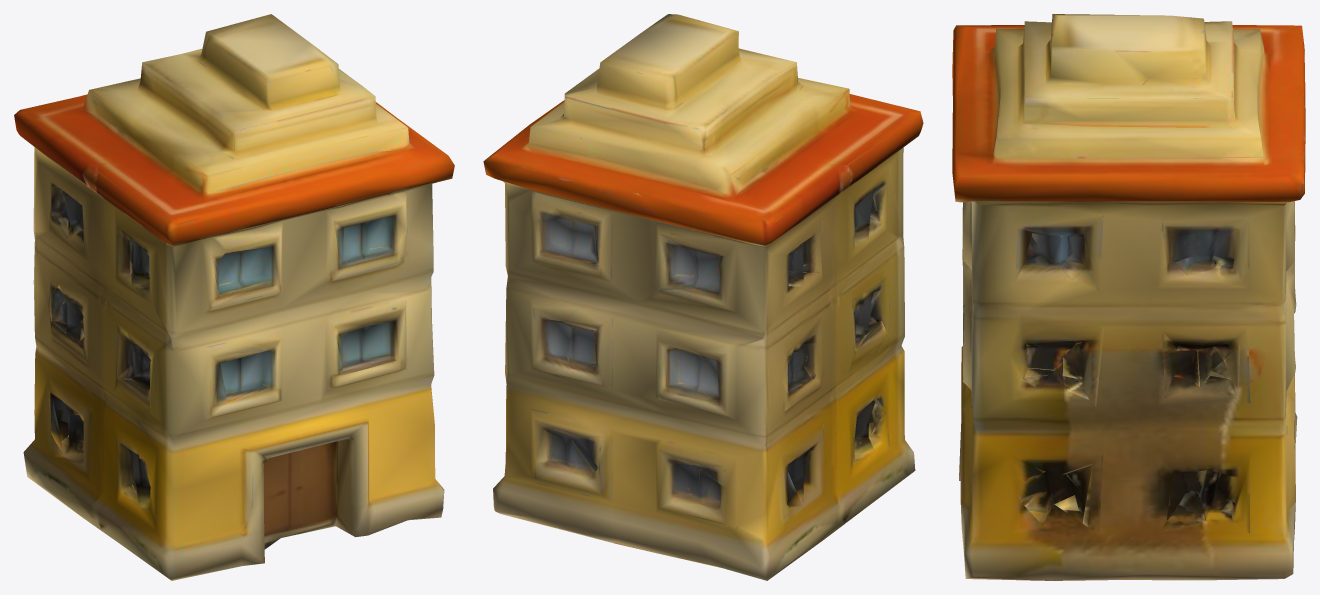
File: building tall.fbx
3 views of the same model, side by side, from view 1: azimuth 30°, elevation 25°; view 2: azimuth 150°, elevation 25°; view 3: azimuth 270°, elevation 25° (orthographic). The views are drawn at different scales.
Parts seen in each view (by area): view 1: building mid1; view 2: building mid1; view 3: building mid1.
Part boxes in pixels (x1,y1,x2,y2): building mid1: (14, 14, 454, 580); building mid1: (483, 14, 923, 580); building mid1: (952, 14, 1305, 580).
Size of the model in its own units: 216 by 319 by 207.
